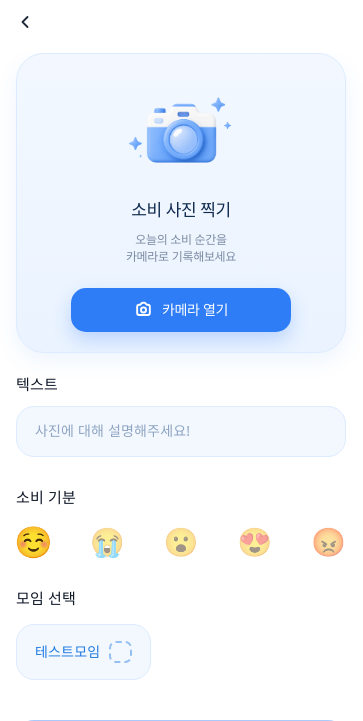
it: 모임을 선택하면 체크 표시가 나타난다
Click the button "테스트모임": (83, 652) [16, 624, 151, 680]
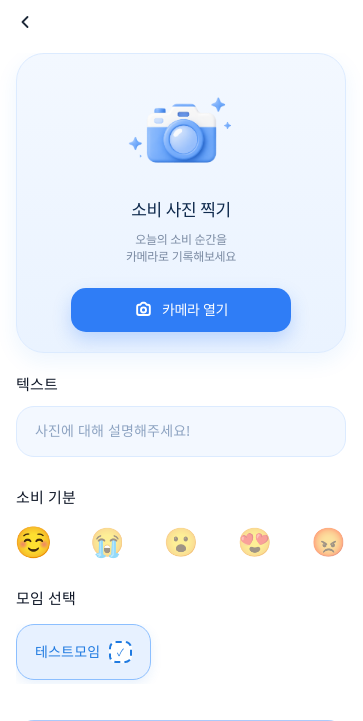
Expected: the text "✓" is shown, [117, 645, 124, 659]
